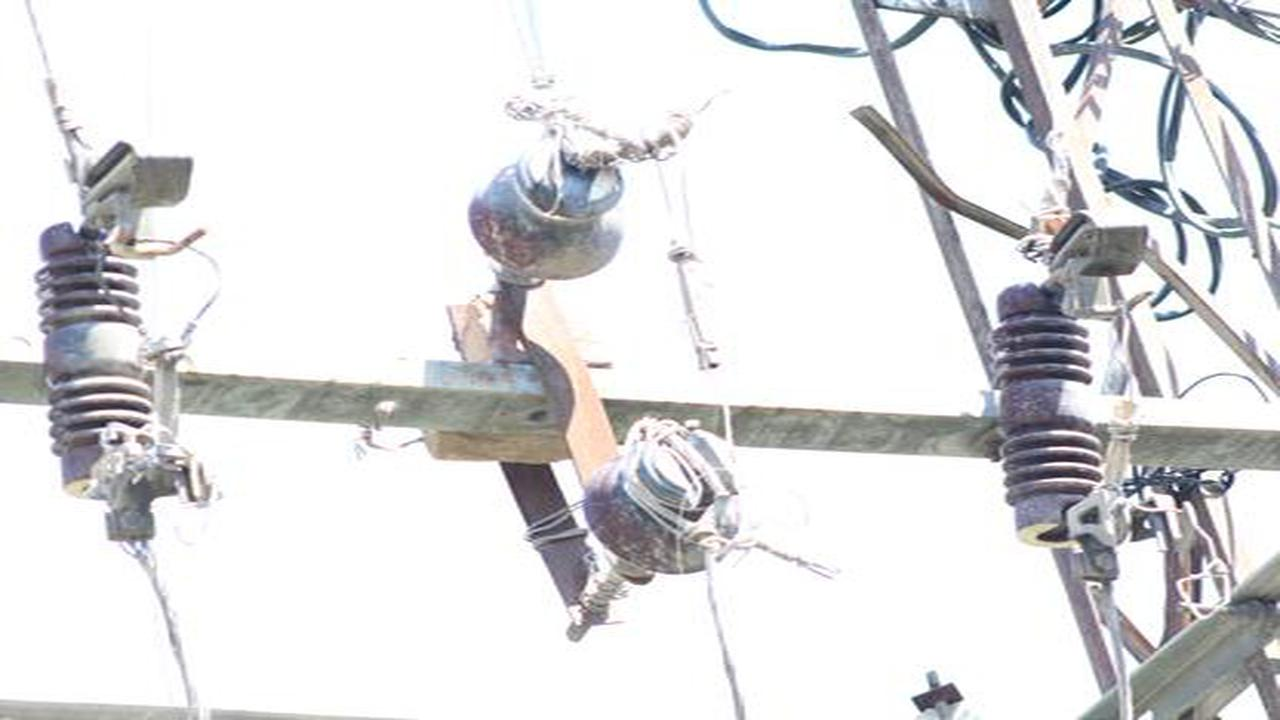insulator_pin: (579, 412, 746, 582), (461, 127, 633, 291)
